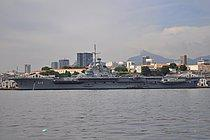MIL_Ship: (10, 51, 202, 89)
